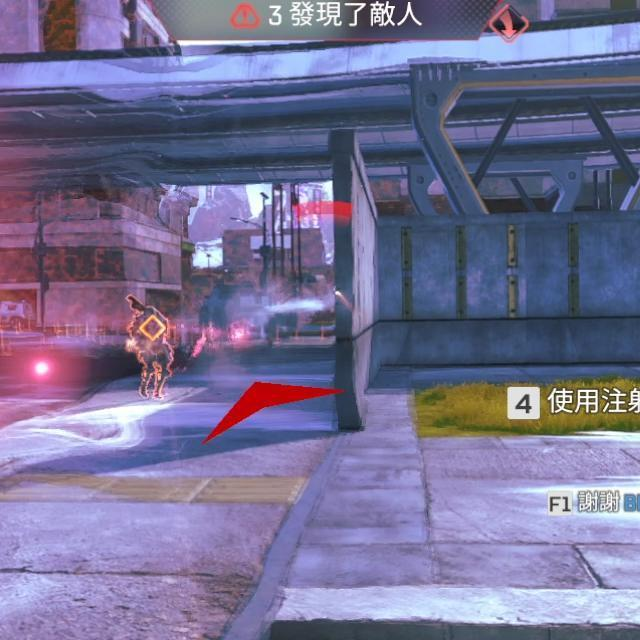avatar: (126, 302, 175, 400)
object: (138, 313, 168, 343)
